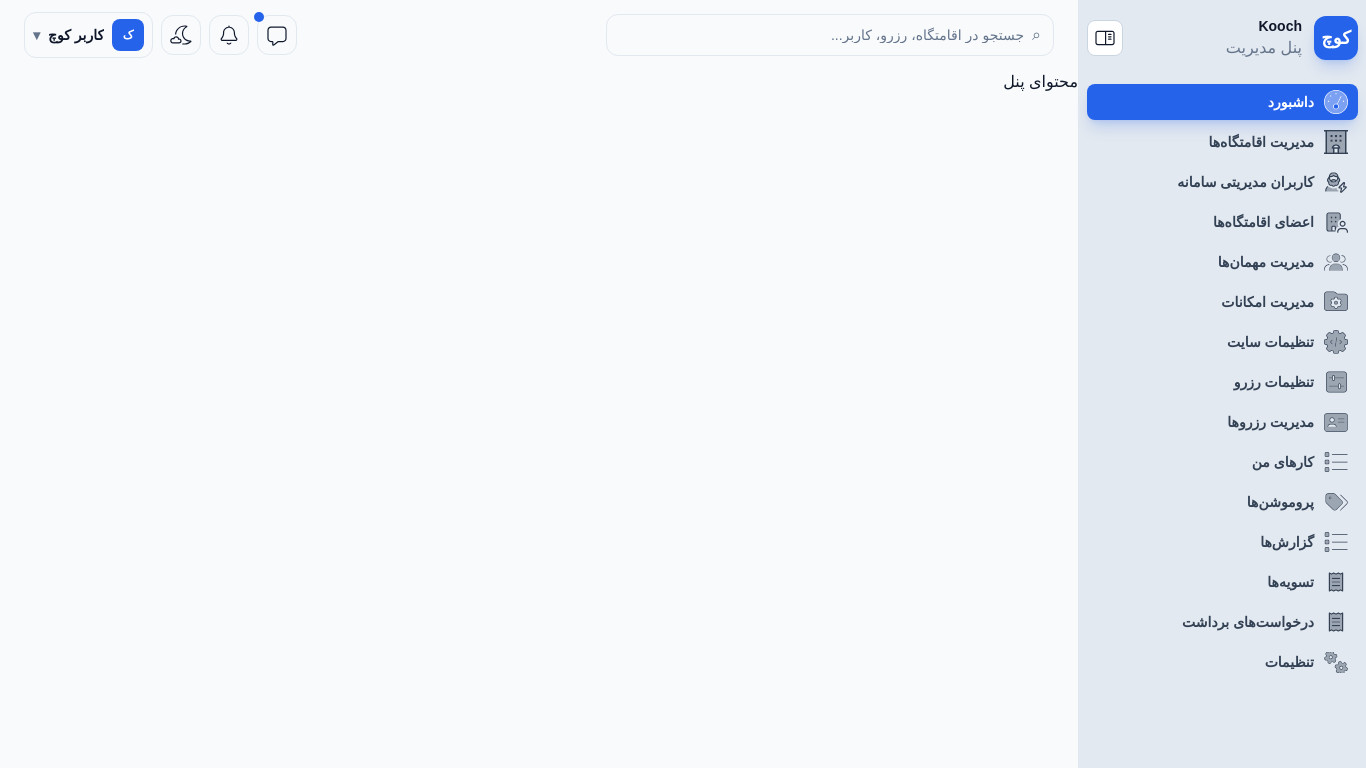
Test: Dashboard notification inbox › retries a failed inbox fetch without showing stale mock notifications
The image size is (1366, 768).
Click the button named "اعلان‌ها" at (229,35), box [209,15,249,55]
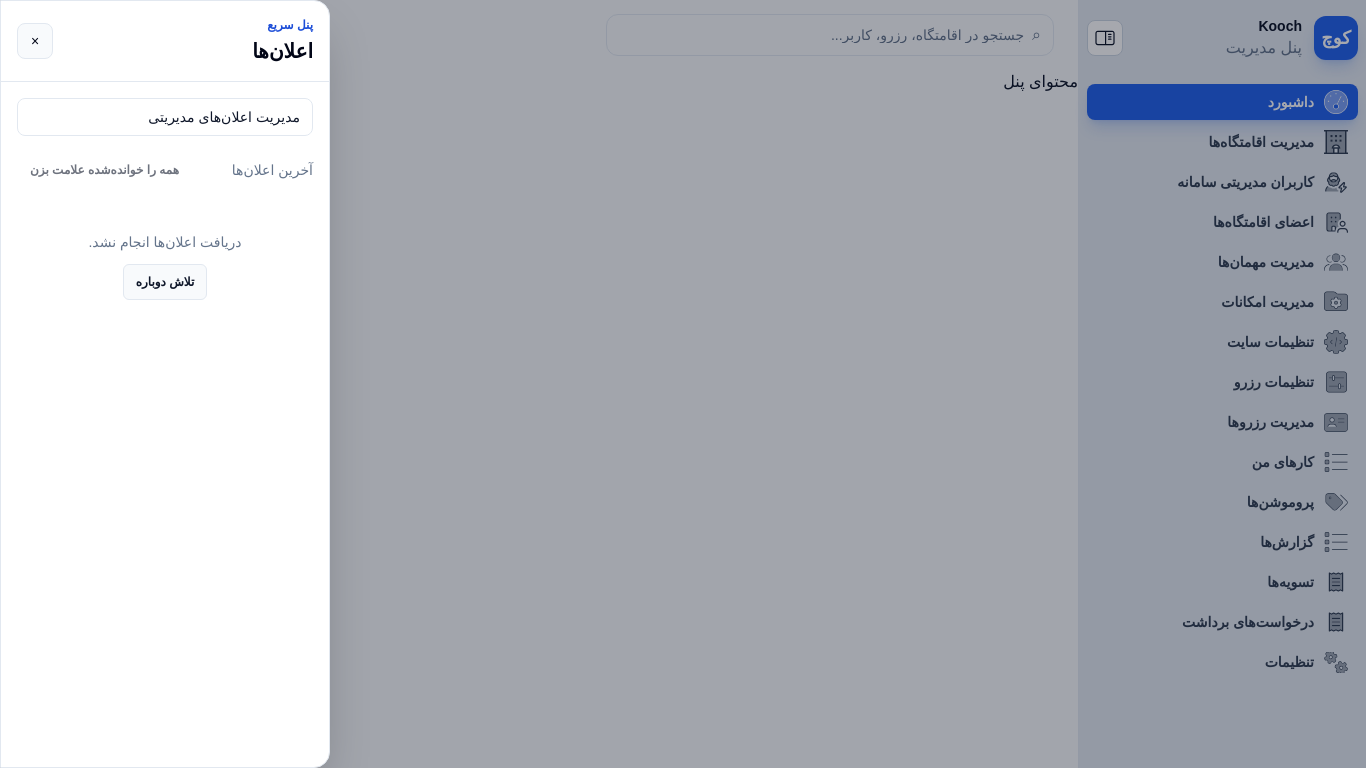
Expected: the text "درخواست لغو جدید" is not shown
Expected: the text "دریافت اعلان‌ها انجام نشد." is shown, [88,234,242,250]
Click the button "تلاش دوباره" at (165,282), box [123,264,207,300]
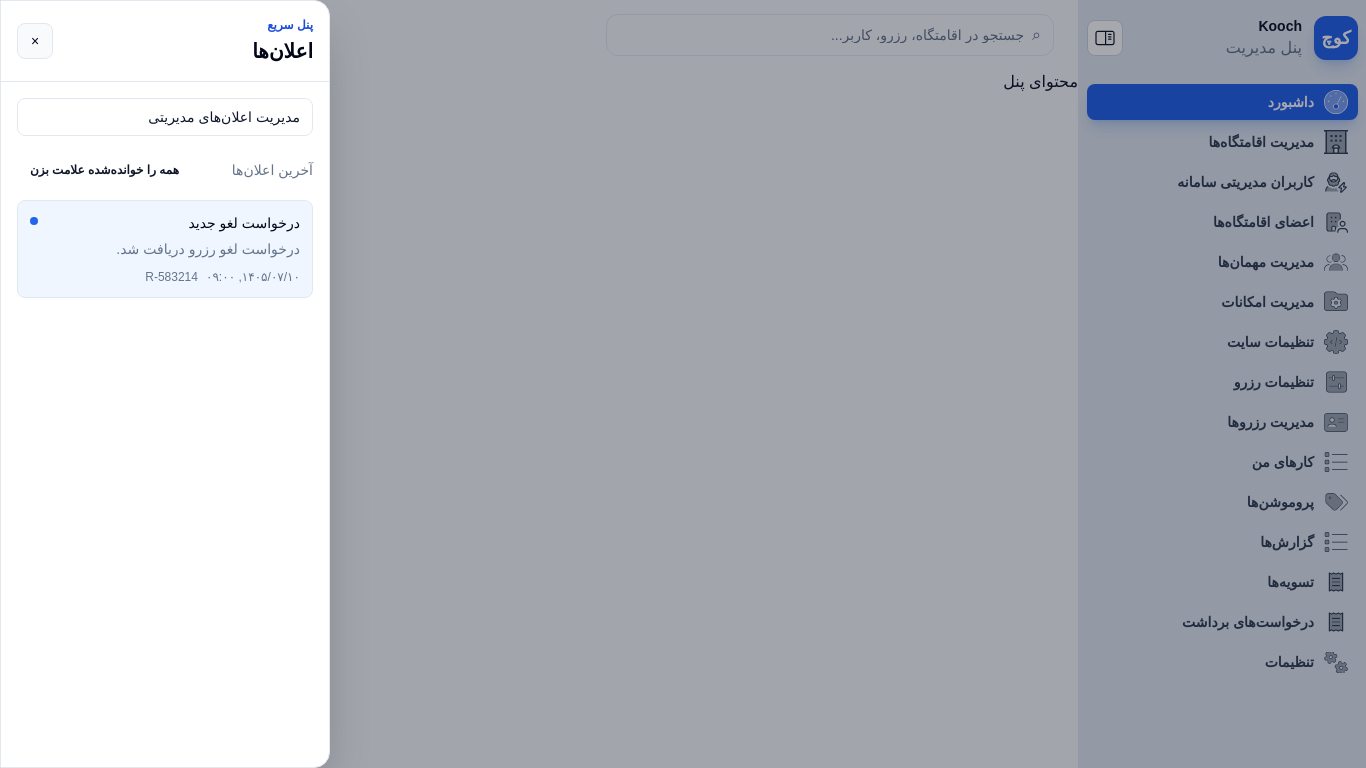
Expected: the text "درخواست لغو جدید" is shown, [188,213,300,233]
